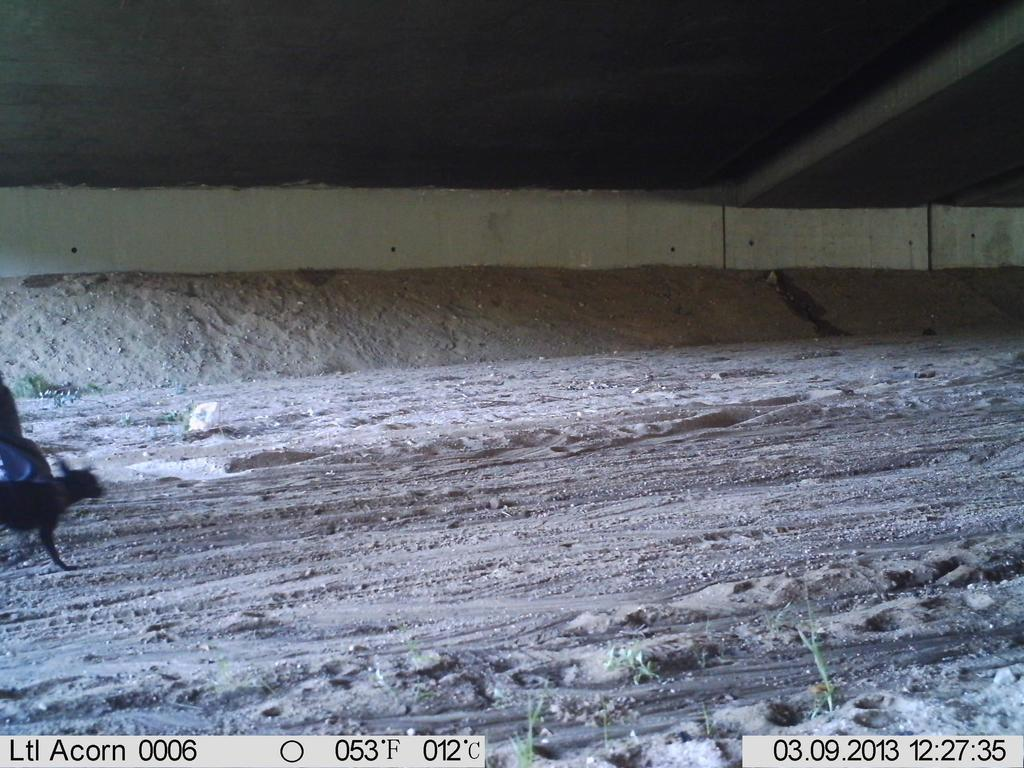dog: (11, 449, 120, 579)
